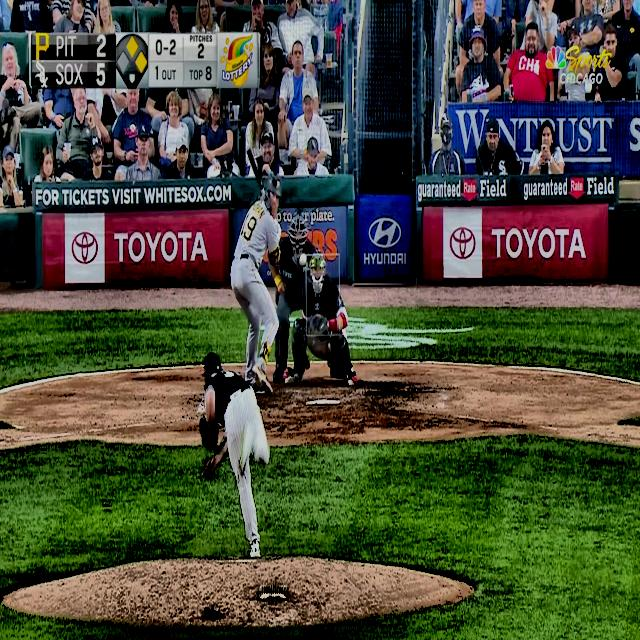baseball: (299, 253, 307, 266)
